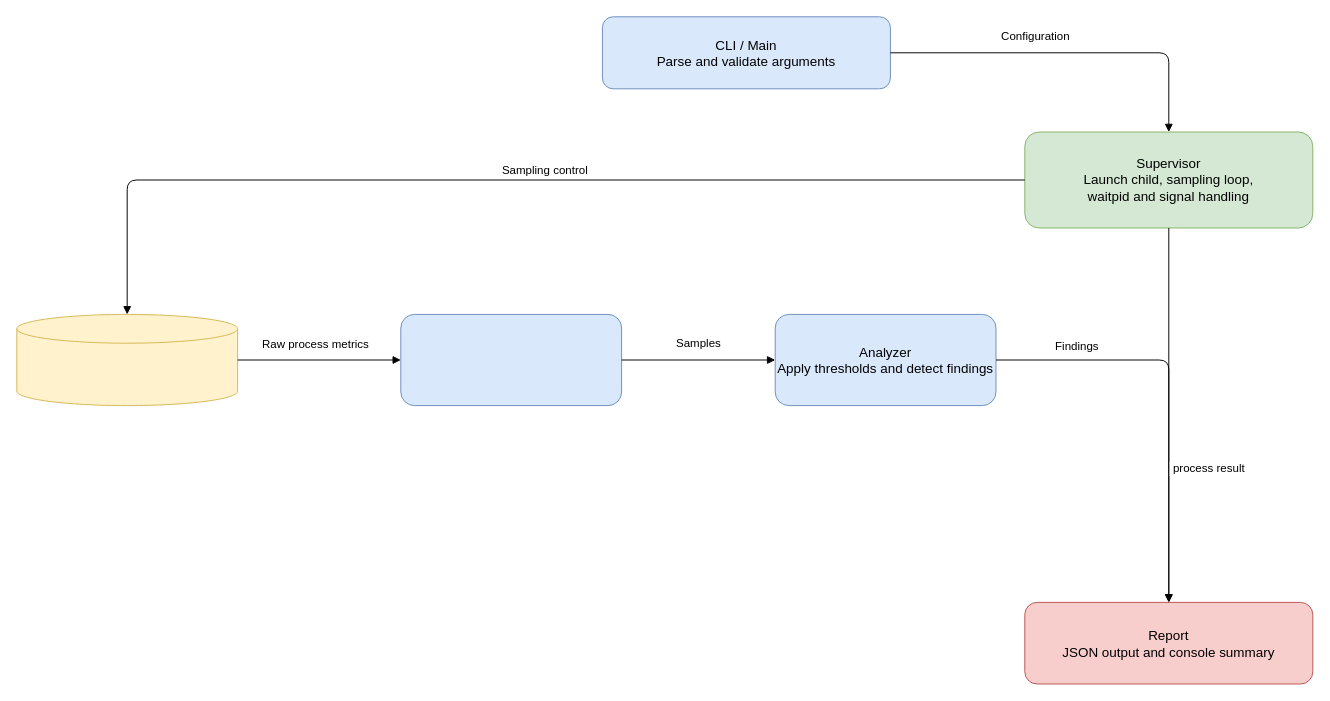
Image size: 1330x701. Some labels were removed from this diagram. The shapes that lost their labels are listed below. From the top down, each one's centre as x and y in pixels, then its label:
At point 127,359: "ProcReader Read and parse Linux /proc".
At point 511,359: "Sampler Calculate RSS and CPU samples".
